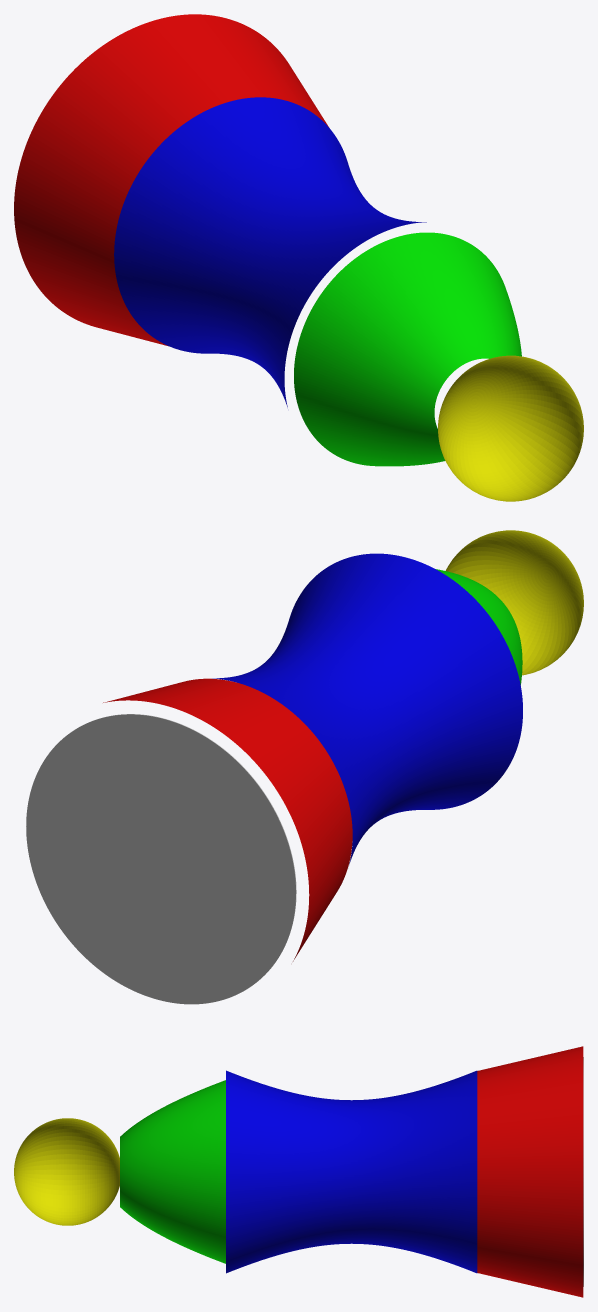
File: alfil_unido_final.glb
3 renders of one model, top to bottom at view 1: azimuth 30°, elevation 25°; view 2: azimuth 150°, elevation 25°; view 3: azimuth 270°, elevation 25°, orthographic. The views are drawn at different scales.
Parts seen in each view (by area): view 1: world; view 2: world; view 3: world.
Boxes of the visible parts, left/top/right/bottom form: world: left=14, top=14, right=583, bottom=501; world: left=26, top=530, right=583, bottom=1004; world: left=14, top=1046, right=583, bottom=1297.
Size of the model in its own units: 0.0662 by 0.0662 by 0.15.
